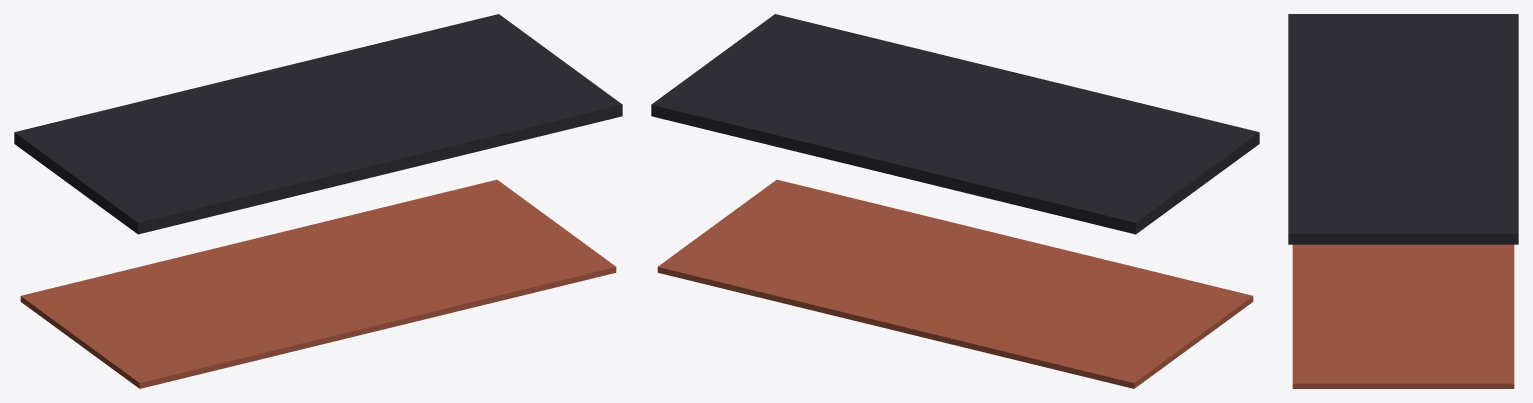
The model's file is wardenclyffe_building_l1.glb.
The picture shows the model from 3 angles, left to right: view 1: azimuth 30°, elevation 25°; view 2: azimuth 150°, elevation 25°; view 3: azimuth 270°, elevation 25°; orthographic projection. The views are drawn at different scales.
Visible parts, largest first — view 1: roof, floor_slab; view 2: roof, floor_slab; view 3: roof, floor_slab.
Boxes of the visible parts, x1,y1,x2,y2 form: roof: [14, 14, 622, 234]; floor_slab: [20, 179, 616, 388]; roof: [651, 14, 1259, 234]; floor_slab: [657, 179, 1253, 388]; roof: [1288, 14, 1518, 244]; floor_slab: [1292, 244, 1514, 388].
Size of what is drawn, in the model's own units: 12.2 by 4.06 by 5.4.
